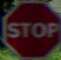Stop: (2, 9, 60, 51)
